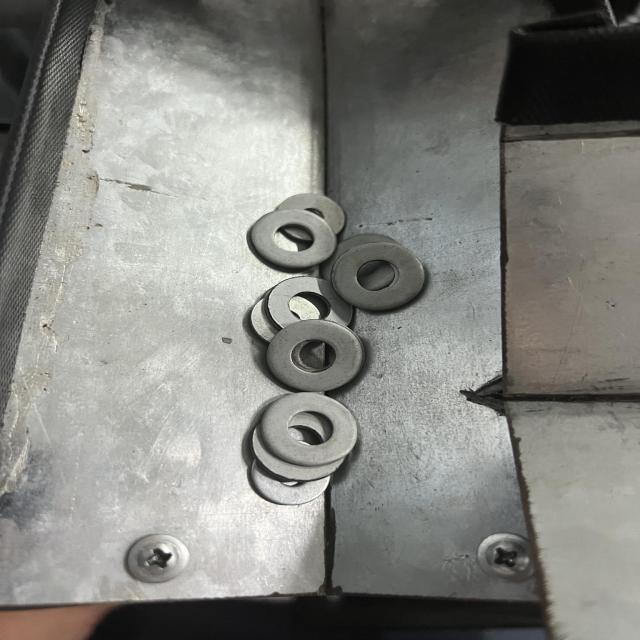washer: (264, 318, 366, 393), (262, 393, 361, 470), (333, 241, 427, 308), (245, 210, 342, 271)
